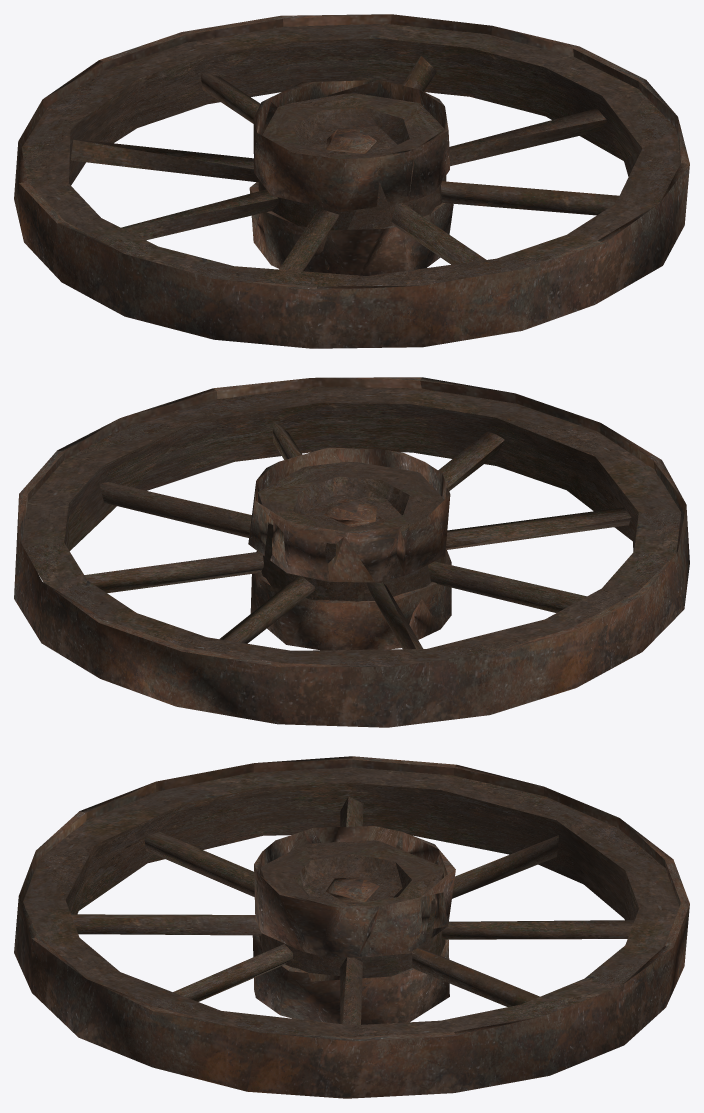
Rendered from lone_wheel.fbx.
3 renders of one model, top to bottom at view 1: azimuth 30°, elevation 25°; view 2: azimuth 150°, elevation 25°; view 3: azimuth 270°, elevation 25°, orthographic.
Visible parts, largest first — view 1: SM_Wheel_Solo; view 2: SM_Wheel_Solo; view 3: SM_Wheel_Solo.
Boxes of the visible parts, x1,y1,x2,y2 form: SM_Wheel_Solo: (14, 14, 689, 348); SM_Wheel_Solo: (14, 377, 689, 727); SM_Wheel_Solo: (14, 756, 689, 1098).
Bounding box in the file's own units: 8.73 × 1.77 × 8.74.
